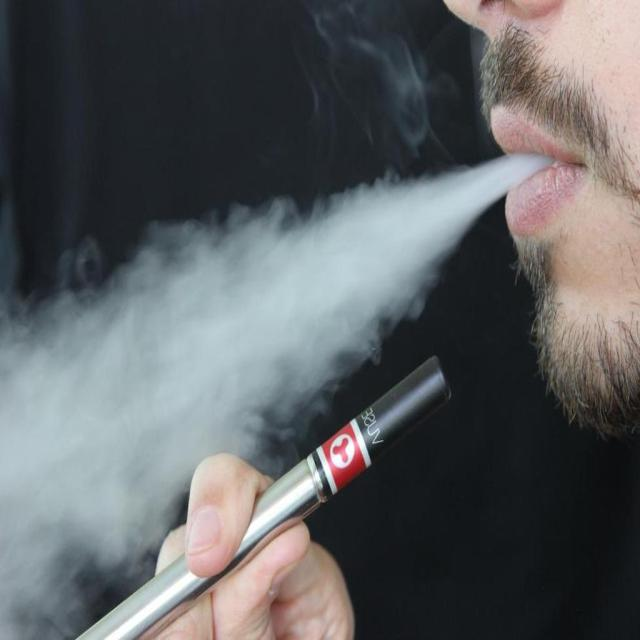smoking: (75, 353, 453, 638)
